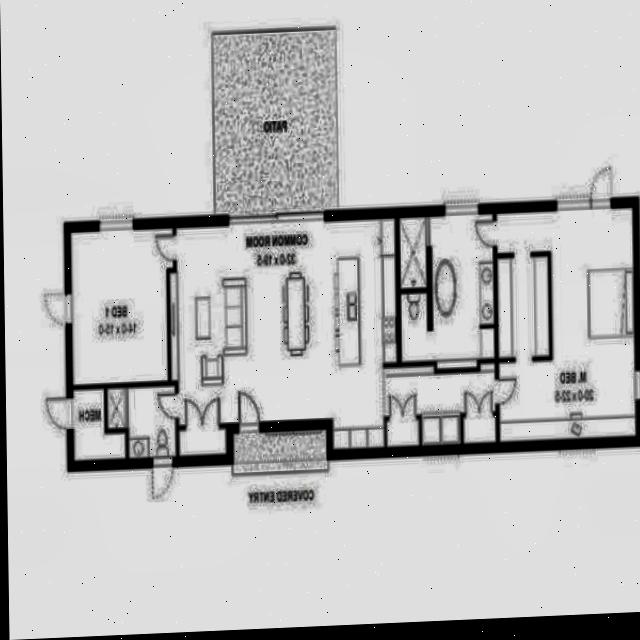room: (172, 214, 497, 425), (497, 208, 636, 442), (71, 228, 175, 384), (400, 215, 495, 369), (107, 385, 176, 456), (74, 388, 125, 459), (400, 218, 427, 288), (332, 421, 385, 449), (179, 429, 227, 455), (422, 418, 462, 445), (463, 416, 498, 444), (387, 419, 420, 447)
